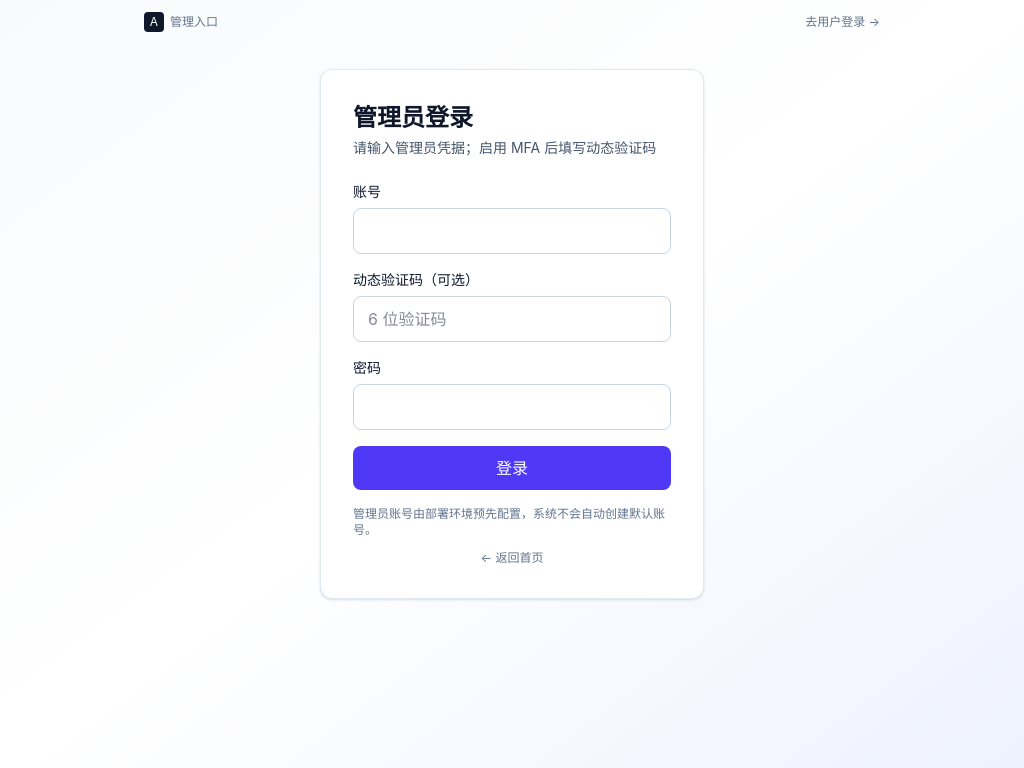
Test: <AdminLoginPage /> › 登录失败 → 显示后端错误
Type "admin" into the field labelled "账号". click: (512, 231)
box: [353,208,671,254]
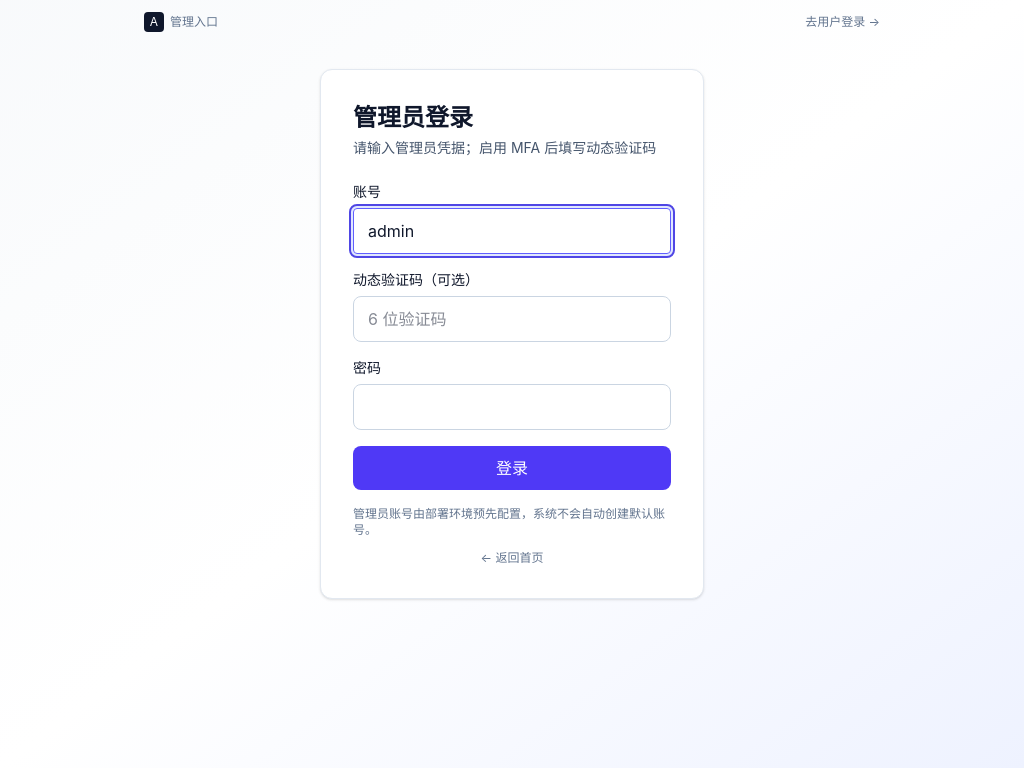
Type "wrong" into the password field labelled "密码". click: (512, 407)
box: [353,384,671,430]
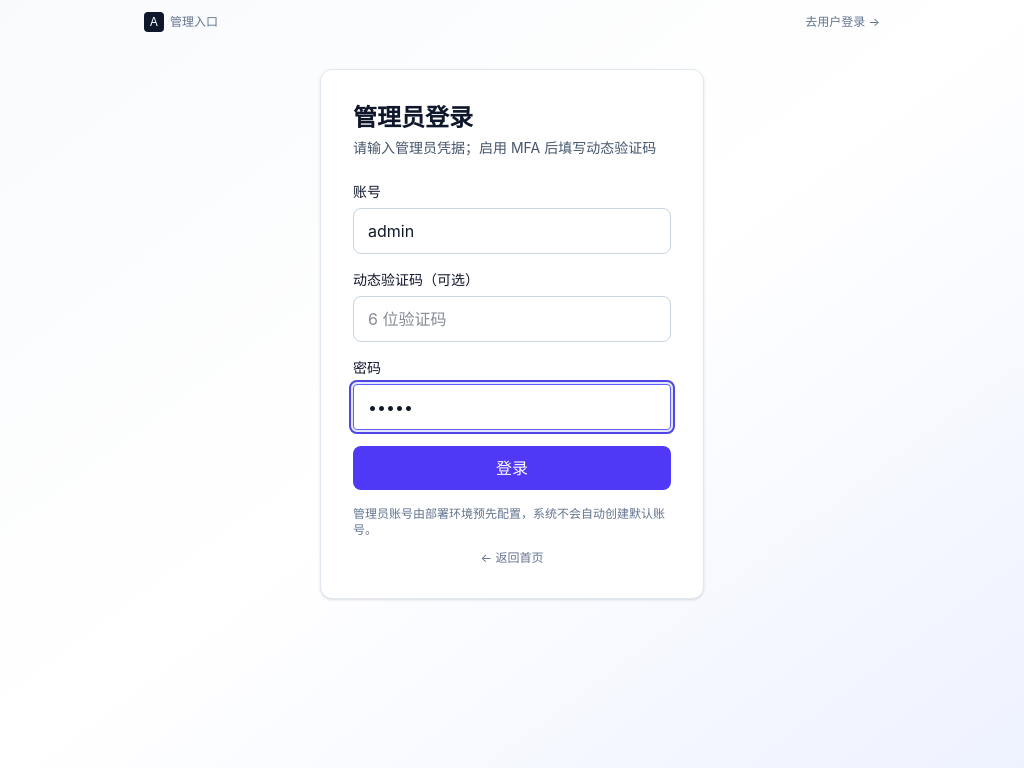
Click the button "登录". click: click(512, 468)
box: [353,446,671,490]
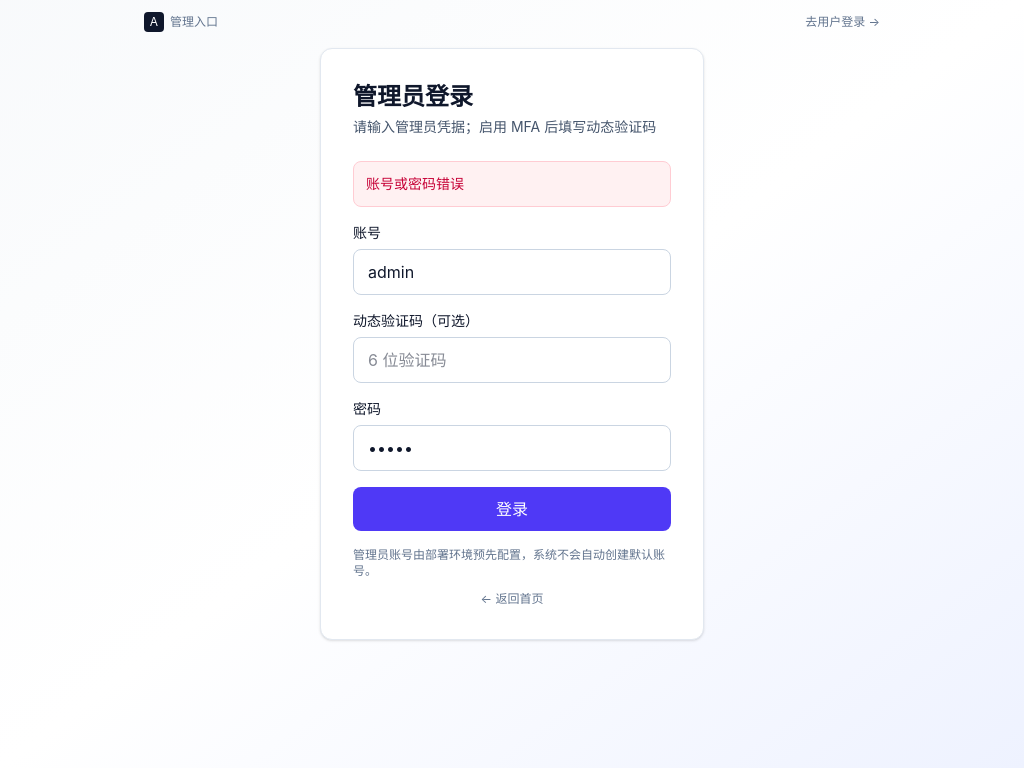
Expected: the text "账号或密码错误" is shown, [353,161,671,207]
